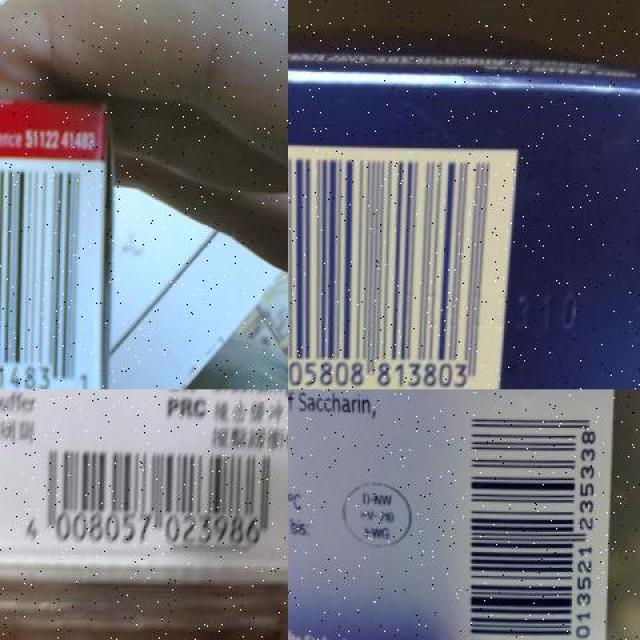Barcode: (288, 142, 519, 390), (457, 396, 604, 640), (24, 444, 284, 561), (0, 153, 99, 390)
